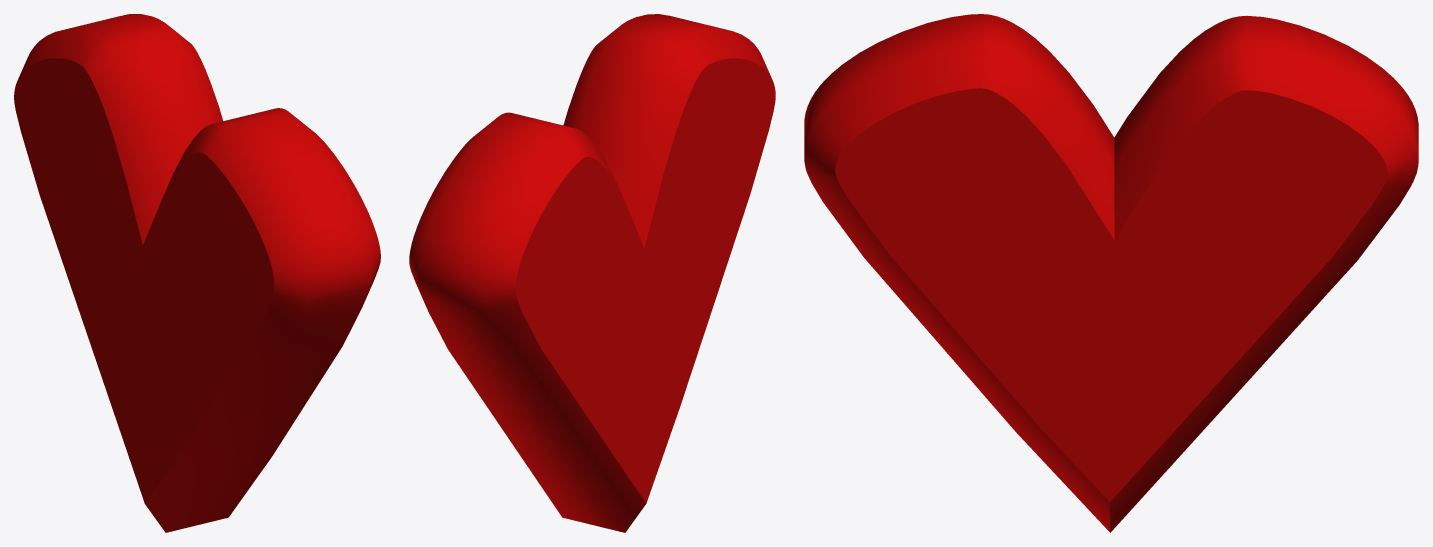
Rendered from heart.fbx.
3 renders of one model, left to right at view 1: azimuth 30°, elevation 25°; view 2: azimuth 150°, elevation 25°; view 3: azimuth 270°, elevation 25°, orthographic. The views are drawn at different scales.
Visible parts, largest first — view 1: Extrudieren_1; view 2: Extrudieren_1; view 3: Extrudieren_1.
Boxes of the visible parts, bbox=[...] form: Extrudieren_1: bbox=[14, 14, 380, 532]; Extrudieren_1: bbox=[409, 14, 775, 532]; Extrudieren_1: bbox=[804, 14, 1418, 532].
Bounding box in the file's own units: 104 × 410 × 470.
